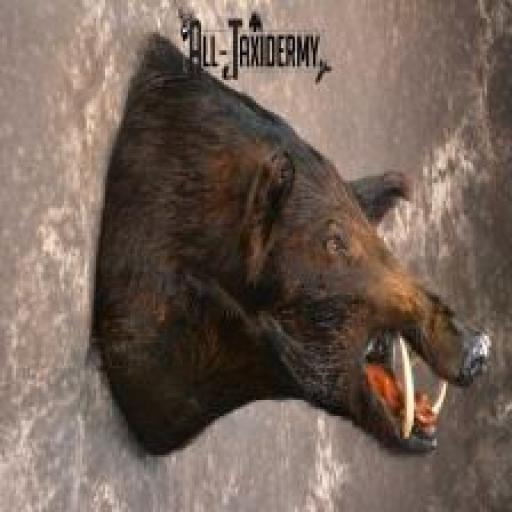Pig: (84, 30, 492, 465)
